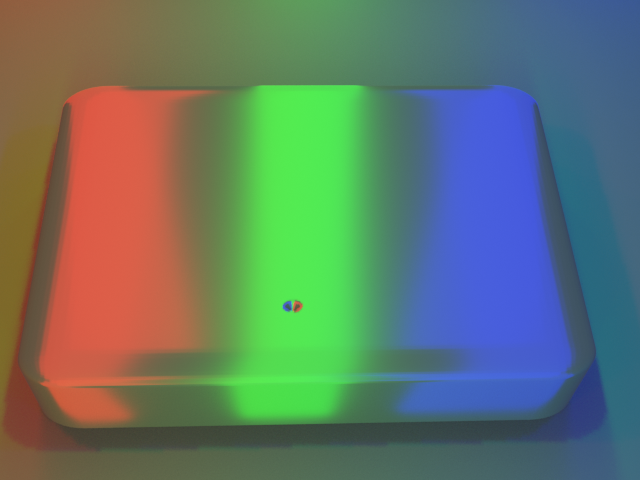dent: (269, 293, 314, 331)
